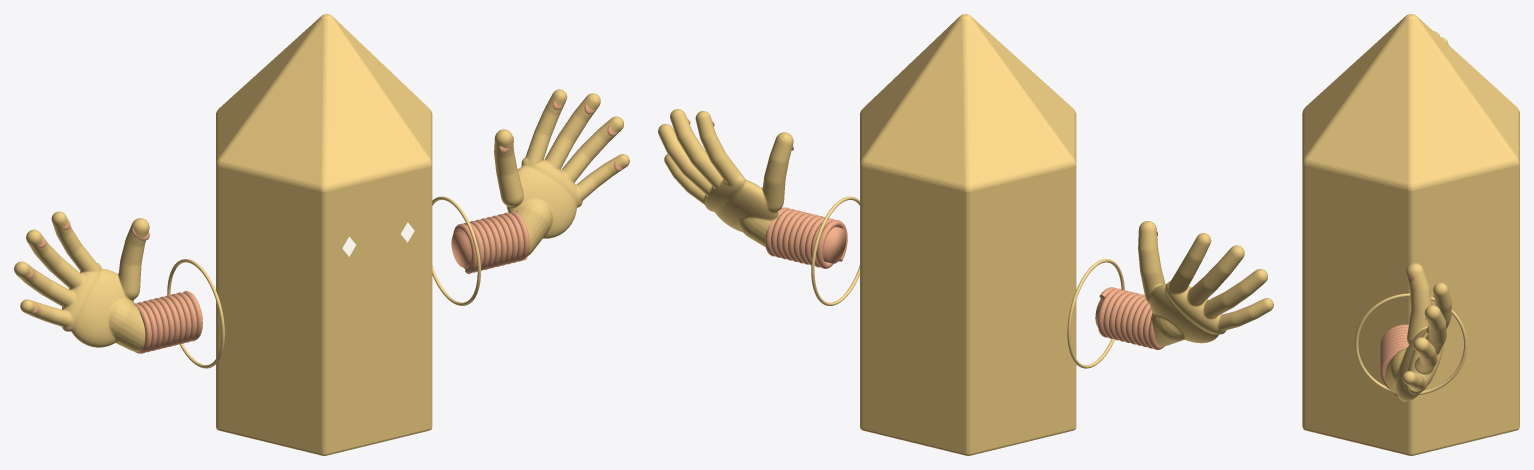
The model's file is zevvo.glb.
The picture shows the model from 3 angles, left to right: view 1: azimuth 30°, elevation 25°; view 2: azimuth 150°, elevation 25°; view 3: azimuth 270°, elevation 25°; orthographic projection.
Visible parts, largest first — view 1: Zevvo_Body, Zevvo_HandL, Zevvo_HandR, Zevvo_CoilL_m, Zevvo_CoilR_m, Zevvo_RingL_m, Zevvo_RingR_m, Zevvo_WristR; view 2: Zevvo_Body, Zevvo_HandL, Zevvo_HandR, Zevvo_CoilR_m, Zevvo_CoilL_m, Zevvo_RingL_m, Zevvo_RingR_m, Zevvo_WristR; view 3: Zevvo_Body, Zevvo_HandR, Zevvo_RingR_m, Zevvo_CoilR_m.
Part boxes in pixels (left/top/right/bottom): Zevvo_Body: left=216, top=14, right=432, bottom=455; Zevvo_HandL: left=14, top=211, right=149, bottom=351; Zevvo_HandR: left=494, top=89, right=629, bottom=256; Zevvo_CoilL_m: left=134, top=291, right=202, bottom=353; Zevvo_CoilR_m: left=453, top=212, right=529, bottom=273; Zevvo_RingL_m: left=167, top=259, right=224, bottom=368; Zevvo_RingR_m: left=432, top=196, right=480, bottom=305; Zevvo_WristR: left=451, top=230, right=471, bottom=267; Zevvo_Body: left=860, top=14, right=1076, bottom=455; Zevvo_HandL: left=1138, top=221, right=1273, bottom=346; Zevvo_HandR: left=658, top=109, right=793, bottom=247; Zevvo_CoilR_m: left=765, top=207, right=847, bottom=268; Zevvo_CoilL_m: left=1097, top=287, right=1164, bottom=349; Zevvo_RingL_m: left=1067, top=259, right=1124, bottom=368; Zevvo_RingR_m: left=811, top=196, right=859, bottom=305; Zevvo_WristR: left=823, top=227, right=846, bottom=263; Zevvo_Body: left=1302, top=14, right=1519, bottom=455; Zevvo_HandR: left=1384, top=263, right=1451, bottom=401; Zevvo_RingR_m: left=1355, top=293, right=1467, bottom=395; Zevvo_CoilR_m: left=1380, top=324, right=1425, bottom=396.
Bounding box in the file's own units: 0.0646 × 0.0395 × 0.02.
